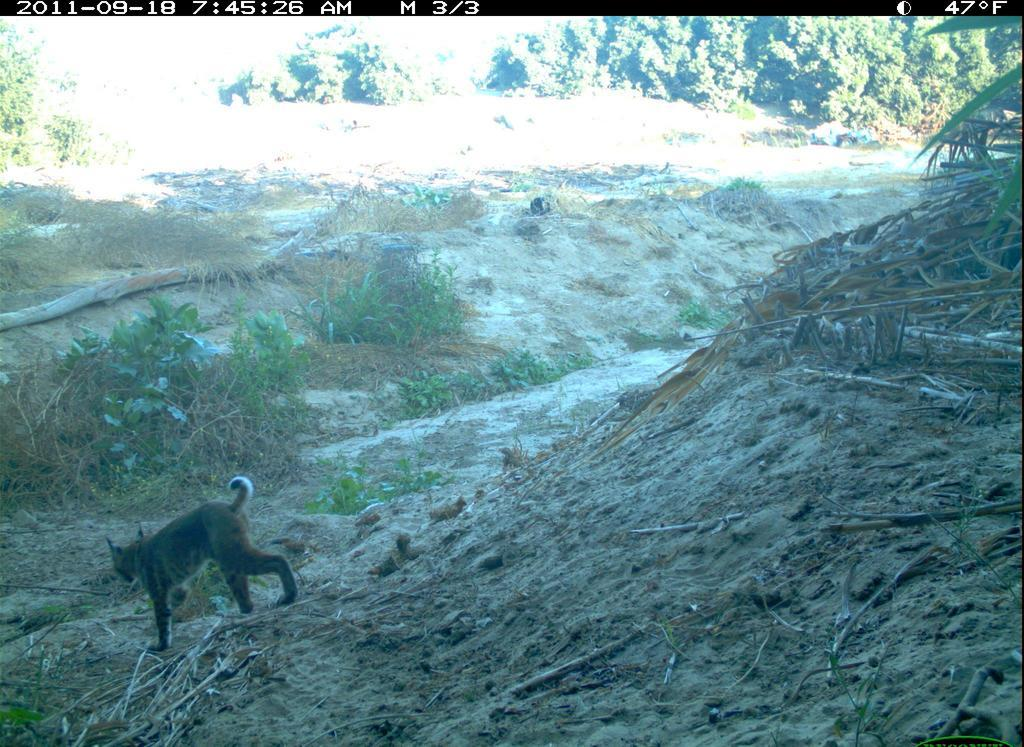bobcat: (99, 468, 305, 661)
